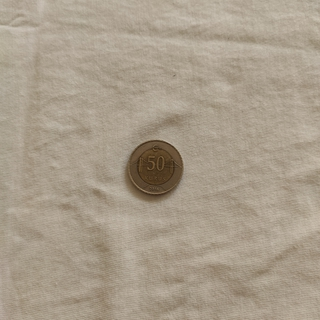50KURUS: (125, 137, 184, 196)
